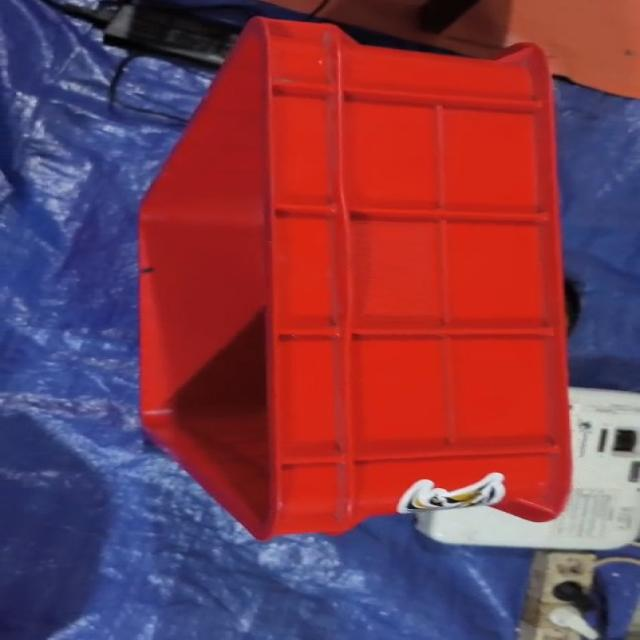red plastic box: (139, 17, 573, 540)
